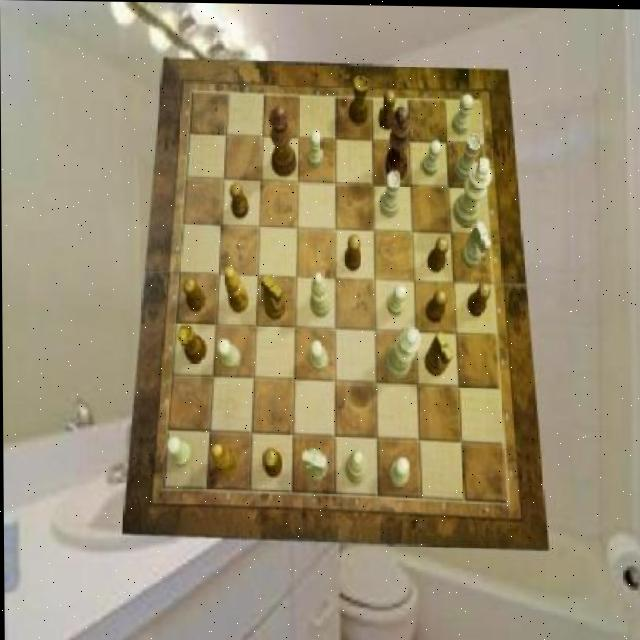bishop: (224, 266, 248, 312), (211, 441, 238, 476)
black-bishop: (384, 103, 409, 181)
black-king: (423, 331, 453, 375), (262, 274, 285, 320)
black-knight: (467, 281, 491, 315), (182, 277, 205, 312), (424, 288, 447, 322), (427, 234, 448, 271), (378, 88, 395, 129), (230, 181, 249, 217), (344, 233, 361, 270), (262, 448, 281, 477)
black-pawn: (269, 104, 297, 177)
black-queen: (176, 325, 205, 364), (346, 75, 367, 124)
black-rook: (309, 271, 329, 317), (345, 449, 368, 483)
white-bishop: (452, 154, 492, 226)
white-king: (460, 219, 491, 267), (301, 448, 326, 481)
white-knight: (452, 93, 475, 135), (166, 435, 190, 467), (421, 139, 441, 175), (216, 339, 239, 369), (385, 283, 405, 315), (306, 130, 322, 168), (389, 455, 409, 485), (309, 339, 327, 370)
white-pawn: (382, 323, 419, 378)
white-queen: (453, 132, 481, 179), (378, 170, 400, 217)
